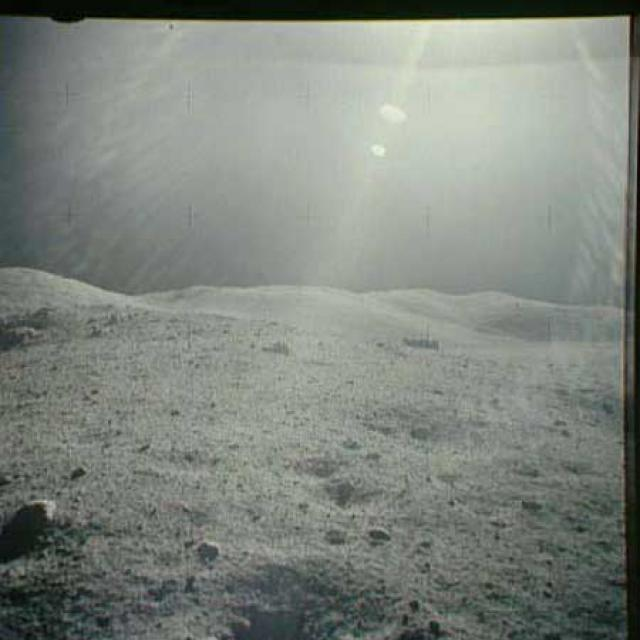crater: (358, 402, 488, 462), (318, 484, 392, 517), (272, 457, 338, 483)
rock: (13, 489, 58, 530)
